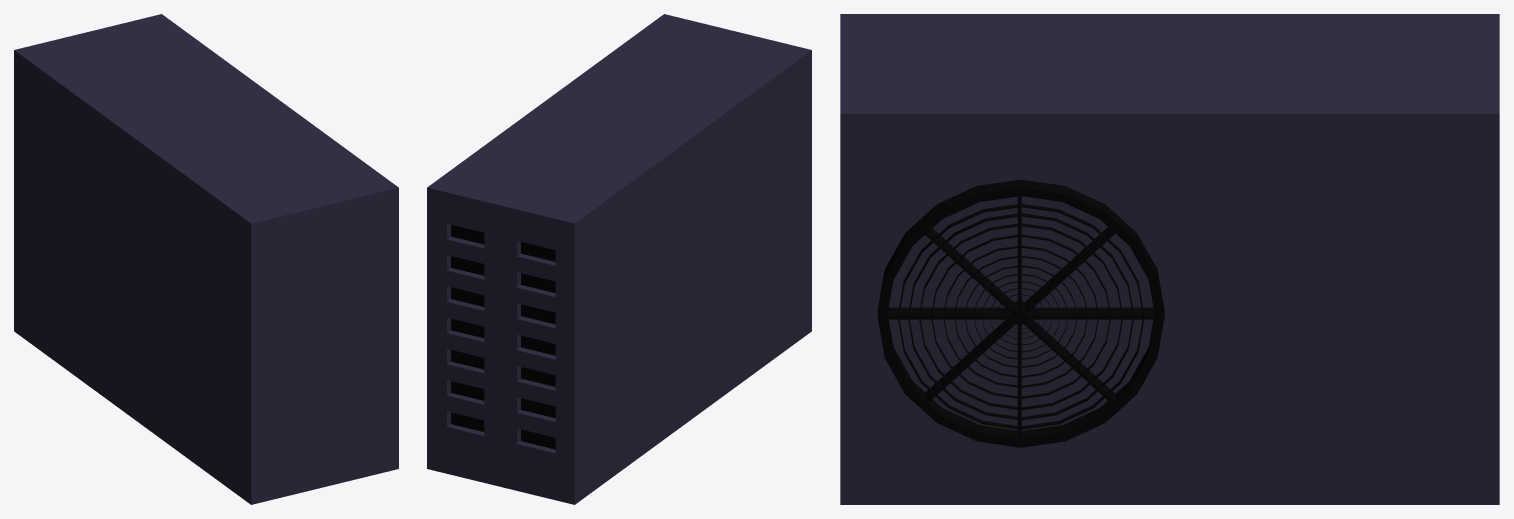
Rendered from Lüftungskasten.fbx.
3 views of the same model, side by side, from view 1: azimuth 30°, elevation 25°; view 2: azimuth 150°, elevation 25°; view 3: azimuth 270°, elevation 25° (orthographic). The views are drawn at different scales.
Parts seen in each view (by area): view 1: pCube20; view 2: pCube20; view 3: pCube20, pPipe1, pCube22, pPipe2, pCube23, pCube24, pPipe3, pPipe4, pPipe5, pCube21, pPipe6, pPipe7.
Part boxes in pixels (bbox=[...]): pCube20: bbox=[14, 14, 398, 504]; pCube20: bbox=[427, 14, 811, 504]; pCube20: bbox=[840, 14, 1499, 504]; pPipe1: bbox=[877, 179, 1164, 447]; pCube22: bbox=[884, 307, 1154, 319]; pPipe2: bbox=[898, 204, 1144, 429]; pCube23: bbox=[923, 228, 1115, 405]; pCube24: bbox=[923, 227, 1116, 405]; pPipe3: bbox=[908, 213, 1133, 420]; pPipe4: bbox=[919, 223, 1122, 409]; pPipe5: bbox=[931, 234, 1110, 398]; pCube21: bbox=[1017, 195, 1021, 440]; pPipe6: bbox=[943, 245, 1098, 387]; pPipe7: bbox=[954, 255, 1087, 377].
Bounding box in the file's own units: 67.07 × 113 × 172.
